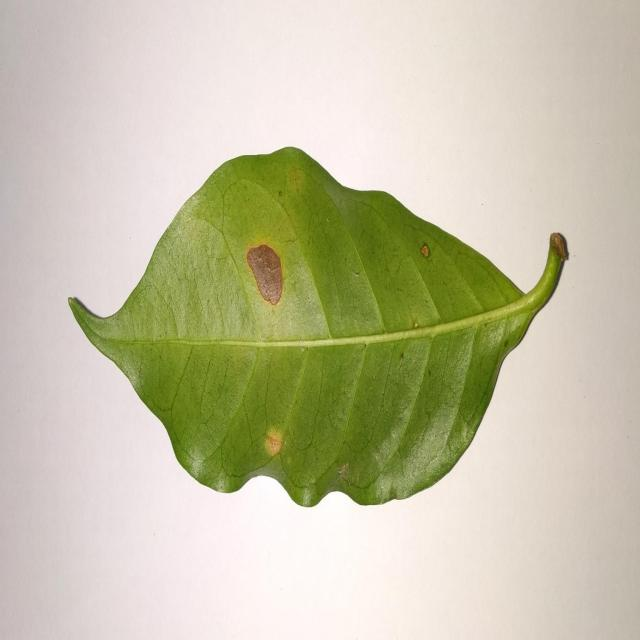Enfermedad-Mancha-de-hierro: (68, 148, 569, 509)
